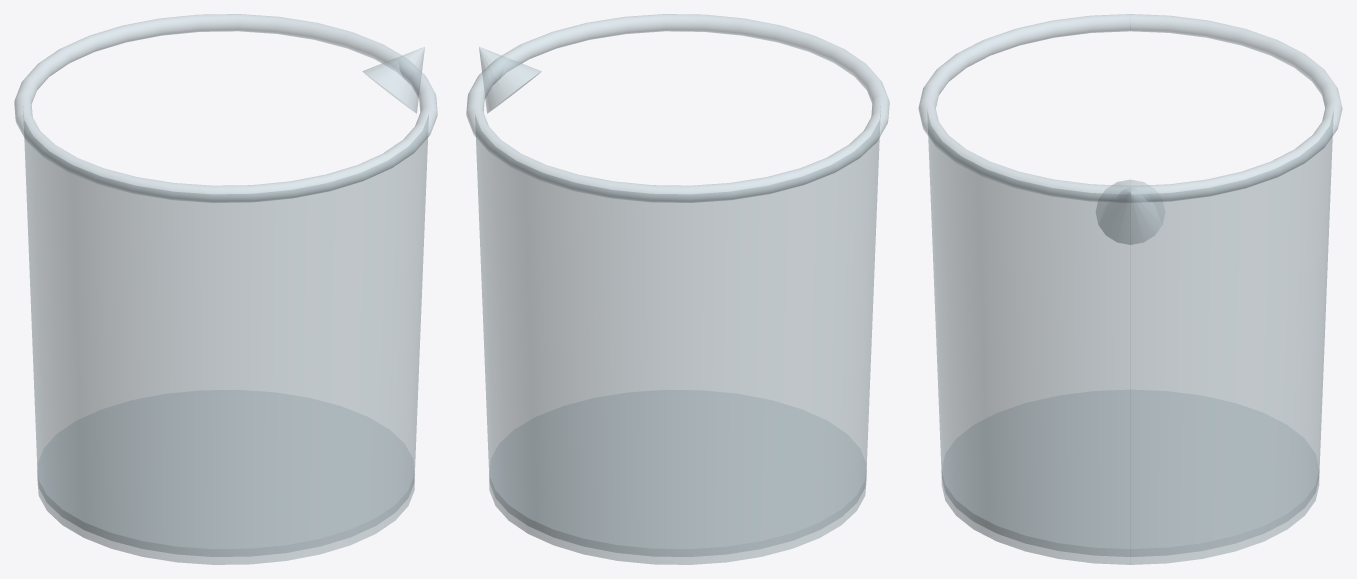
Rendered from beaker.glb.
3 views of the same model, side by side, from view 1: azimuth 30°, elevation 25°; view 2: azimuth 150°, elevation 25°; view 3: azimuth 270°, elevation 25° (orthographic).
Parts seen in each view (by area): view 1: Beaker; view 2: Beaker; view 3: Beaker.
Boxes of the visible parts, bbox=[...] form: Beaker: bbox=[14, 14, 437, 564]; Beaker: bbox=[466, 14, 889, 564]; Beaker: bbox=[918, 14, 1342, 564].
Size of the model in its own units: 1.52 by 1.48 by 1.46.
